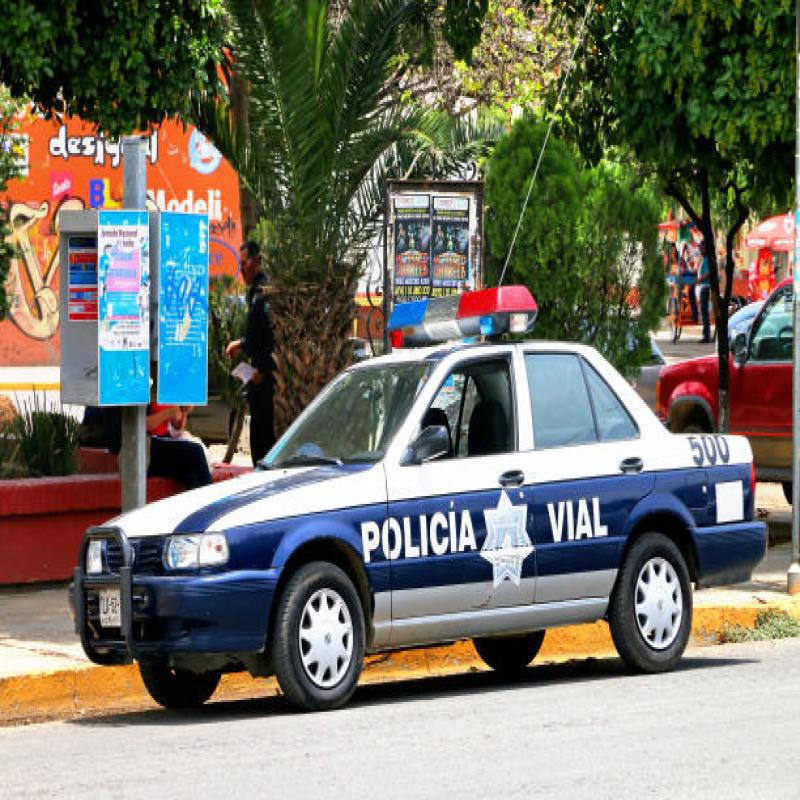AmbulanceSiren: (372, 270, 544, 362)
